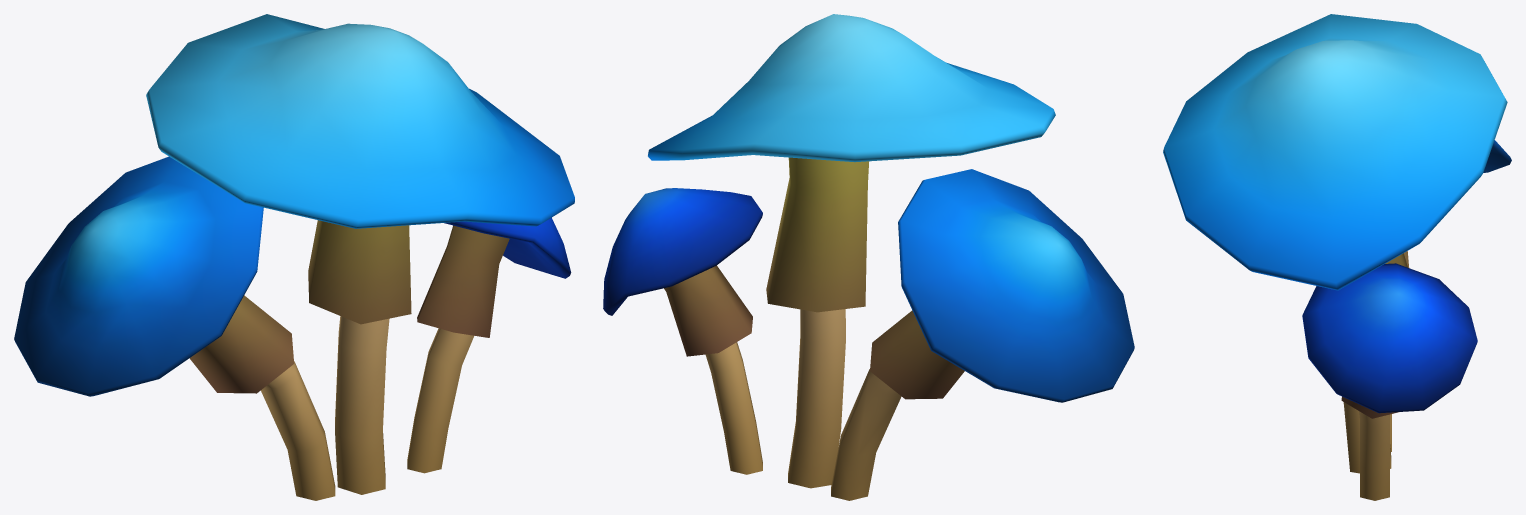
Rendered from Mushroom_C.fbx.
The picture shows the model from 3 angles, left to right: view 1: azimuth 30°, elevation 25°; view 2: azimuth 150°, elevation 25°; view 3: azimuth 270°, elevation 25°; orthographic projection. The views are drawn at different scales.
Visible parts, largest first — view 1: Mushroom_C; view 2: Mushroom_C; view 3: Mushroom_C.
Boxes of the visible parts, x1,y1,x2,y2 form: Mushroom_C: (14, 14, 574, 500); Mushroom_C: (603, 14, 1134, 500); Mushroom_C: (1163, 14, 1511, 500).
Bounding box in the file's own units: 39.21 × 33.71 × 26.03.
